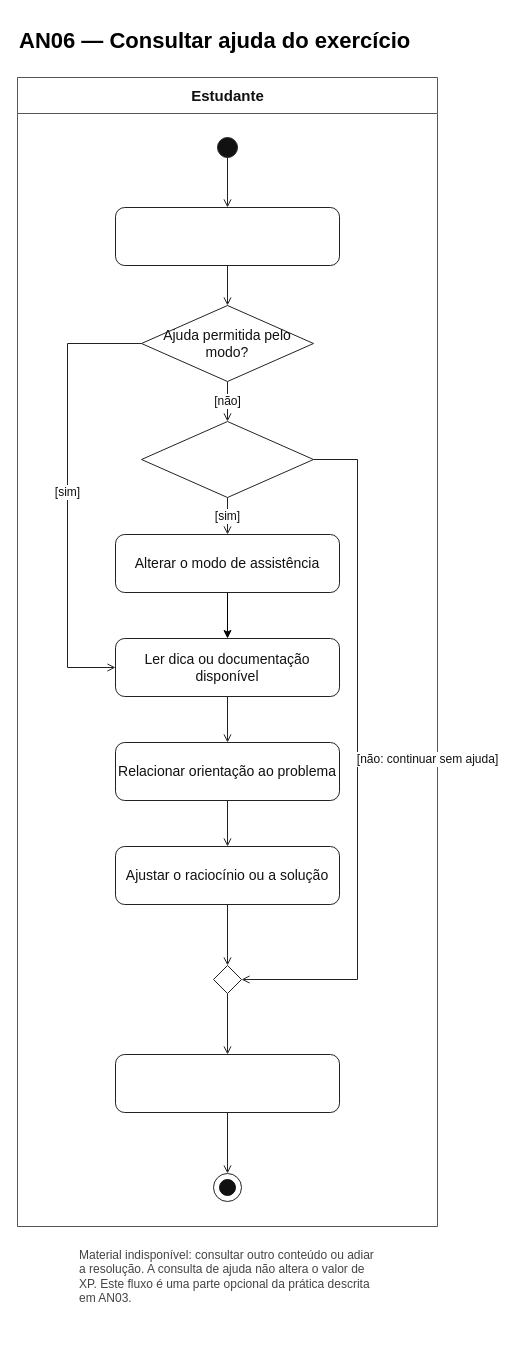
Image size: 515x1348. Some labels were removed from this diagram. The box of each missing label's shape, as (x1, y1, x2, y2) in pixels:
Deseja alterar o modo?: (140, 420, 314, 498)
Identificar dúvida durante a prática: (114, 206, 340, 266)
Retomar a resolução do exercício: (114, 1054, 340, 1112)
